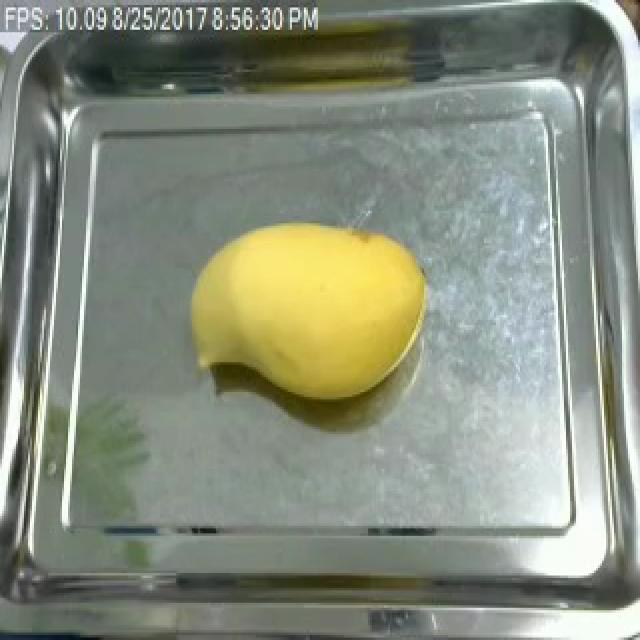fruit: (176, 208, 438, 412)
